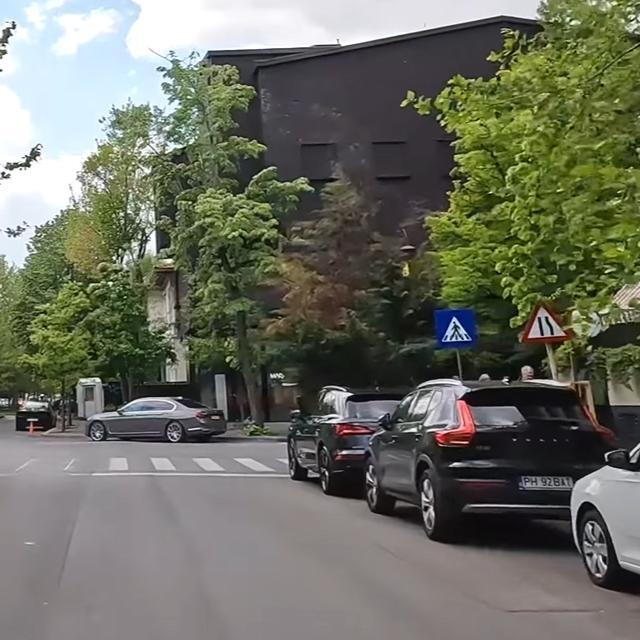info_crosswalk: (434, 305, 478, 348)
